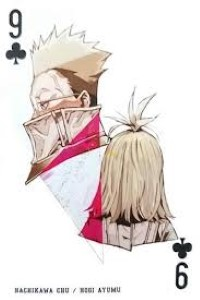NineOfClubs: (2, 3, 200, 294)
